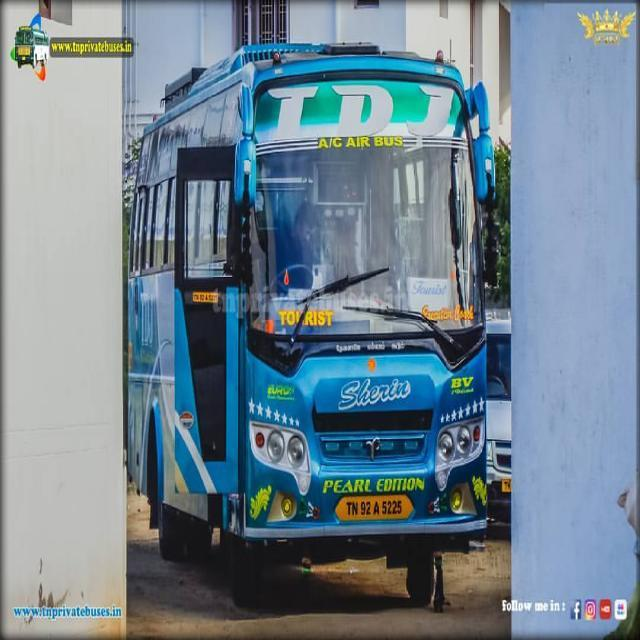Bus: (127, 38, 496, 577)
